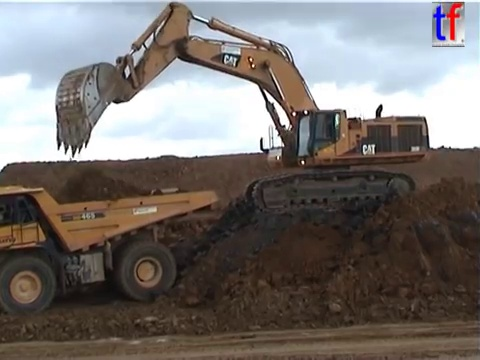excavator: (51, 1, 432, 218)
truck: (1, 183, 220, 317)
